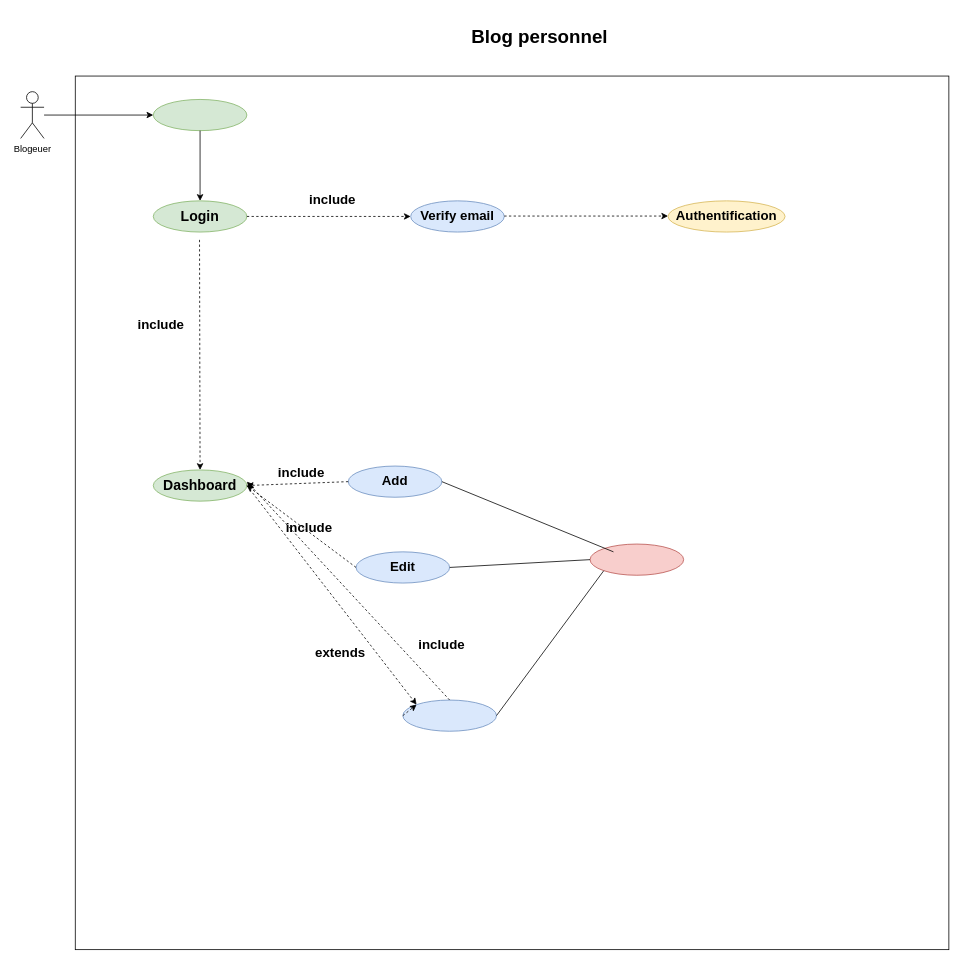
The diagram is 963 pixels wide and 963 high, and some of its shapes have lost their labels. Each missing label, with the centre of its shape:
"database" belongs at point 636,559.
"Delete" belongs at point 449,715.
"Index" belongs at point 199,115.
